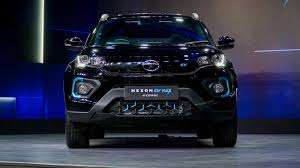Tata Nexon: (62, 10, 242, 153)
